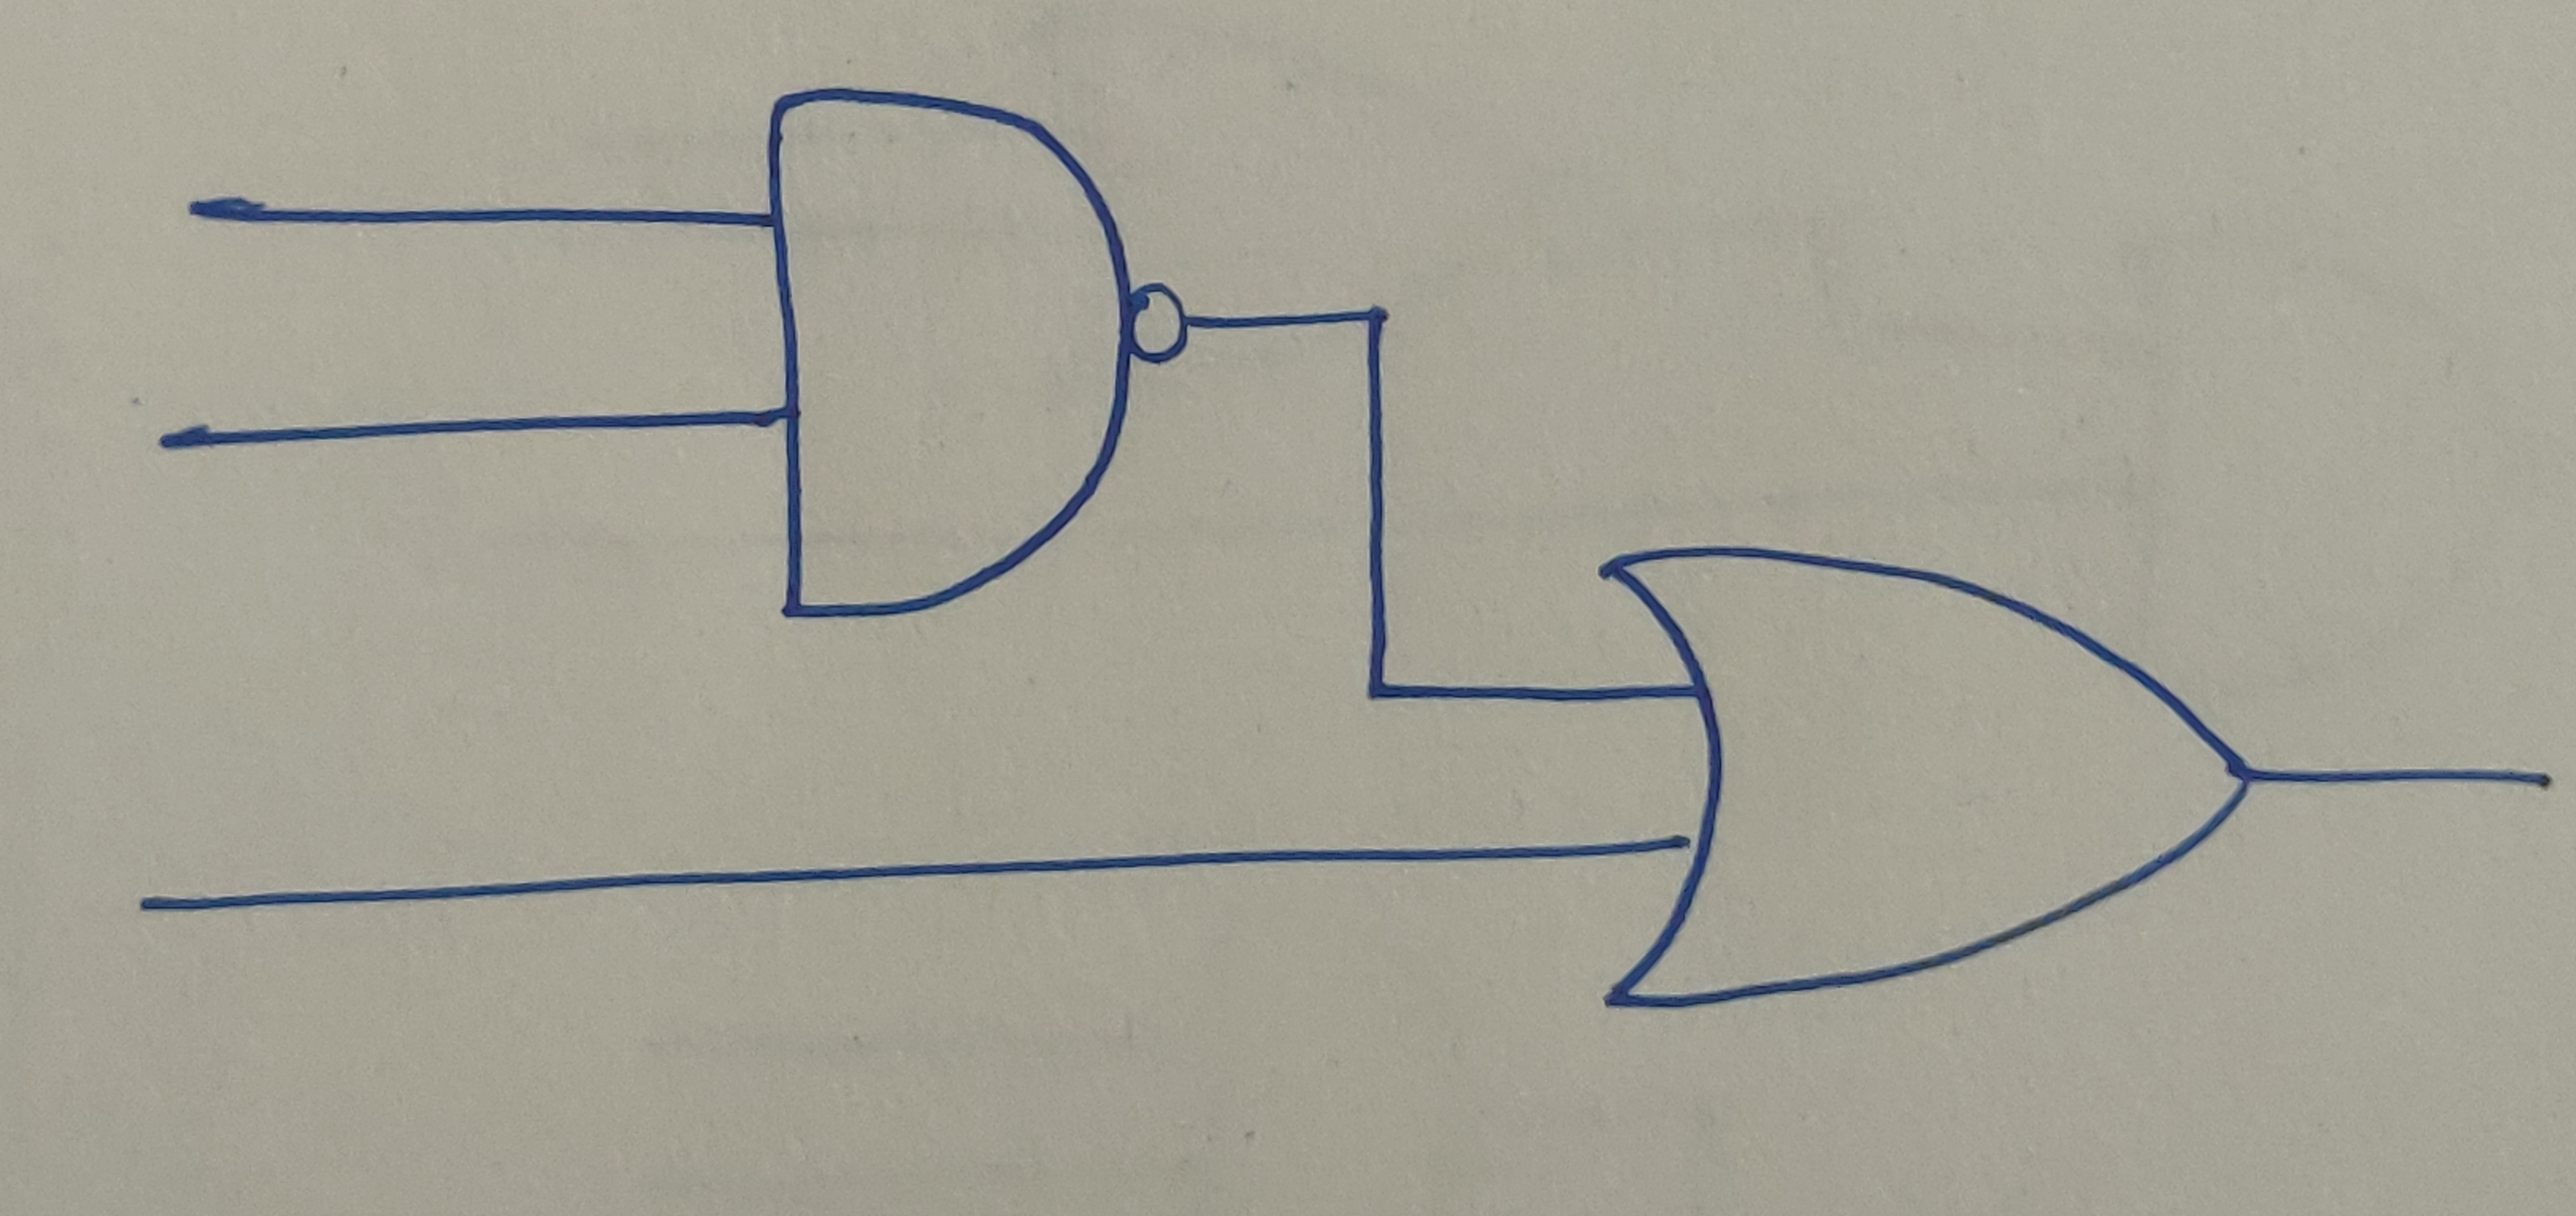and: (761, 89, 1140, 621)
not: (1120, 276, 1193, 368)
or: (1587, 546, 2264, 1016)
